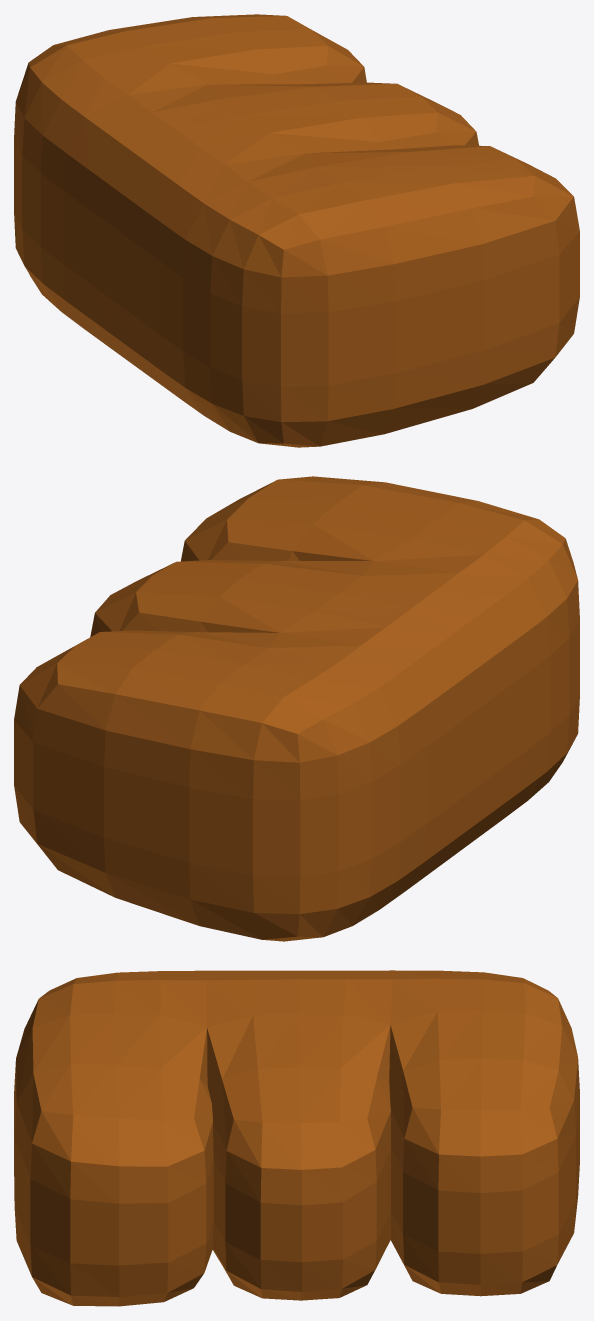
3 renders of one model, top to bottom at view 1: azimuth 30°, elevation 25°; view 2: azimuth 150°, elevation 25°; view 3: azimuth 270°, elevation 25°, orthographic. The views are drawn at different scales.
Size of the model in its own units: 0.6811 by 0.4323 by 0.9581.
